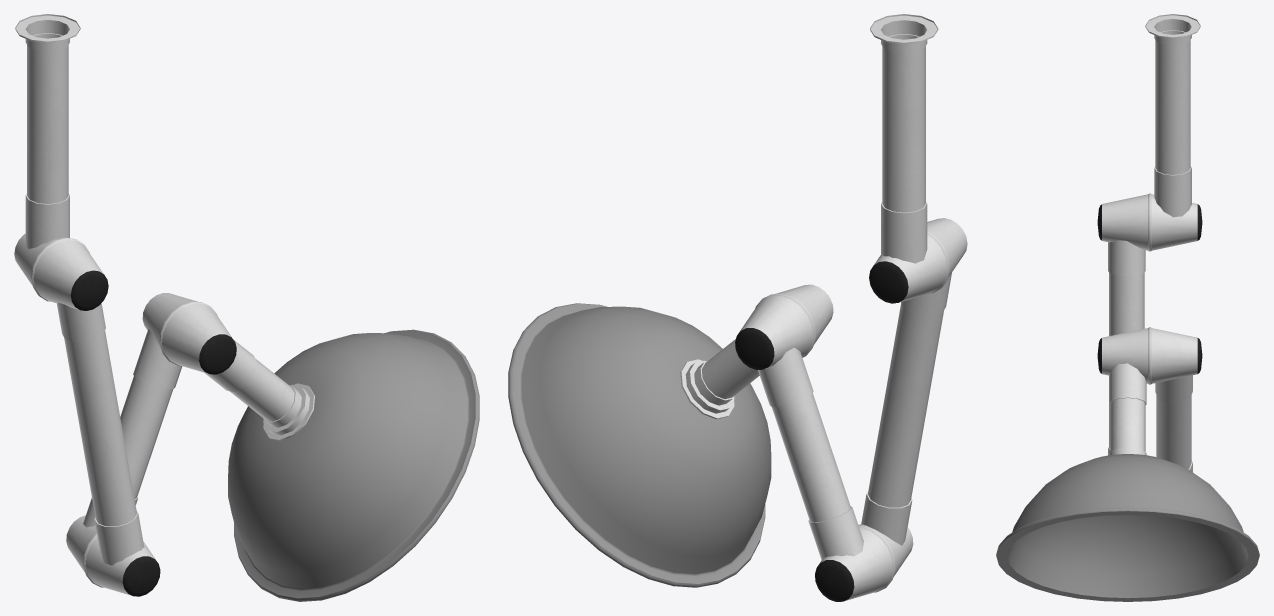
File: SM_吊顶式排气罩_010.fbx
3 views of the same model, side by side, from view 1: azimuth 30°, elevation 25°; view 2: azimuth 150°, elevation 25°; view 3: azimuth 270°, elevation 25° (orthographic). The views are drawn at different scales.
Visible parts, largest first — view 1: SM_吊顶式排气罩_010; view 2: SM_吊顶式排气罩_010; view 3: SM_吊顶式排气罩_010.
Boxes of the visible parts, x1=… form: SM_吊顶式排气罩_010: x1=14, y1=14, x2=479, y2=601; SM_吊顶式排气罩_010: x1=508, y1=14, x2=967, y2=601; SM_吊顶式排气罩_010: x1=996, y1=14, x2=1259, y2=601.
Bounding box in the file's own units: 113 × 155 × 74.46.
